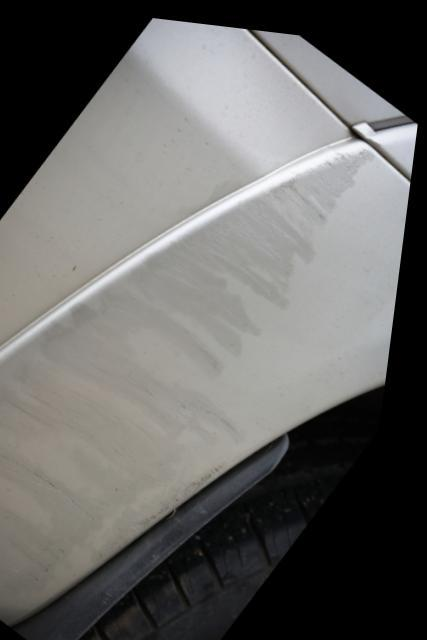scratch: (0, 136, 377, 608)
